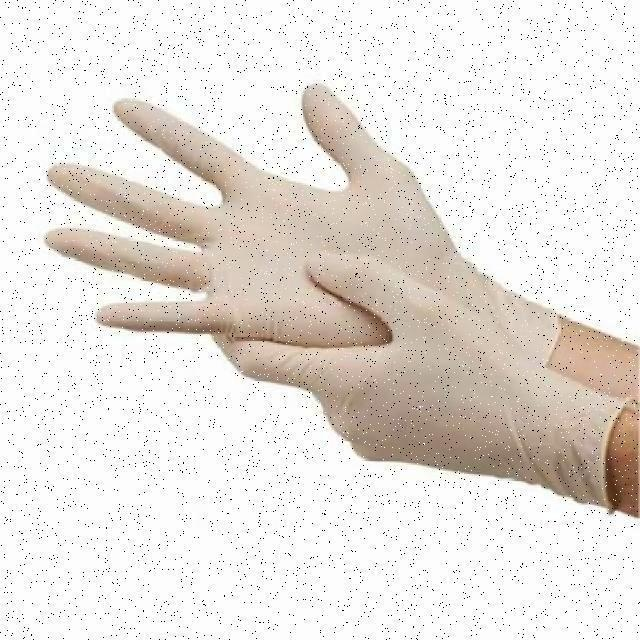Guantes: (65, 83, 537, 377), (215, 248, 621, 546)
